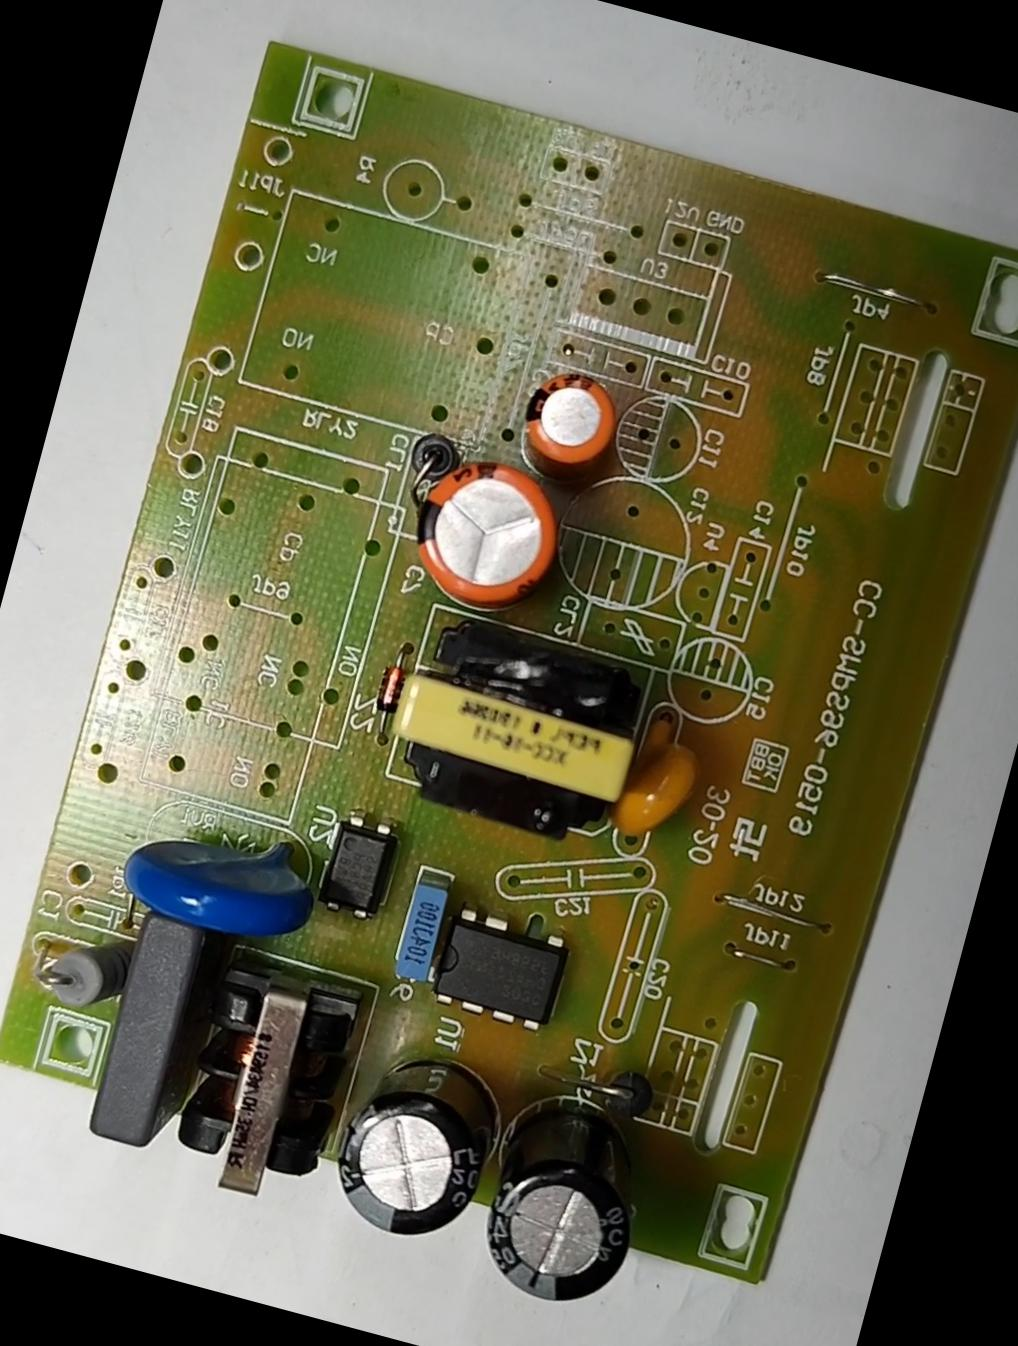Cap1: (396, 445, 572, 619)
Cap2: (515, 359, 632, 483)
Cap3: (324, 1033, 514, 1256)
Cap4: (465, 1077, 667, 1320)
MOSFET: (426, 908, 574, 1037)
Mov: (113, 795, 327, 952)
Resistor: (33, 926, 132, 1016)
Transformer: (377, 599, 660, 855), (160, 959, 365, 1215)
